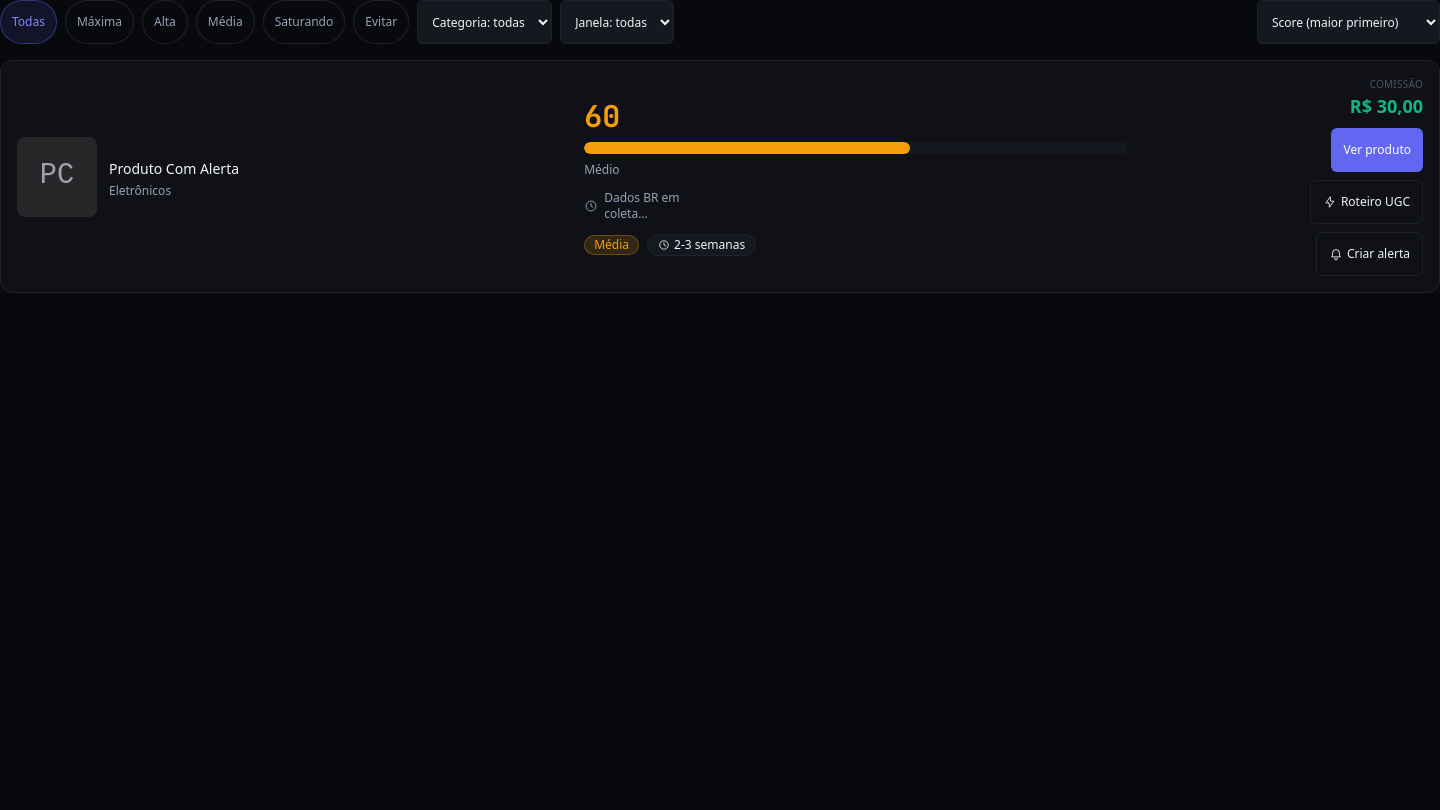
it: <OpportunitiesView /> — PRO › clicar em 'Criar alerta' abre o CreateAlertModal
Step 1. Click the button "Criar alerta" → [1369, 254], box x1=1316 y1=232 x2=1423 y2=276
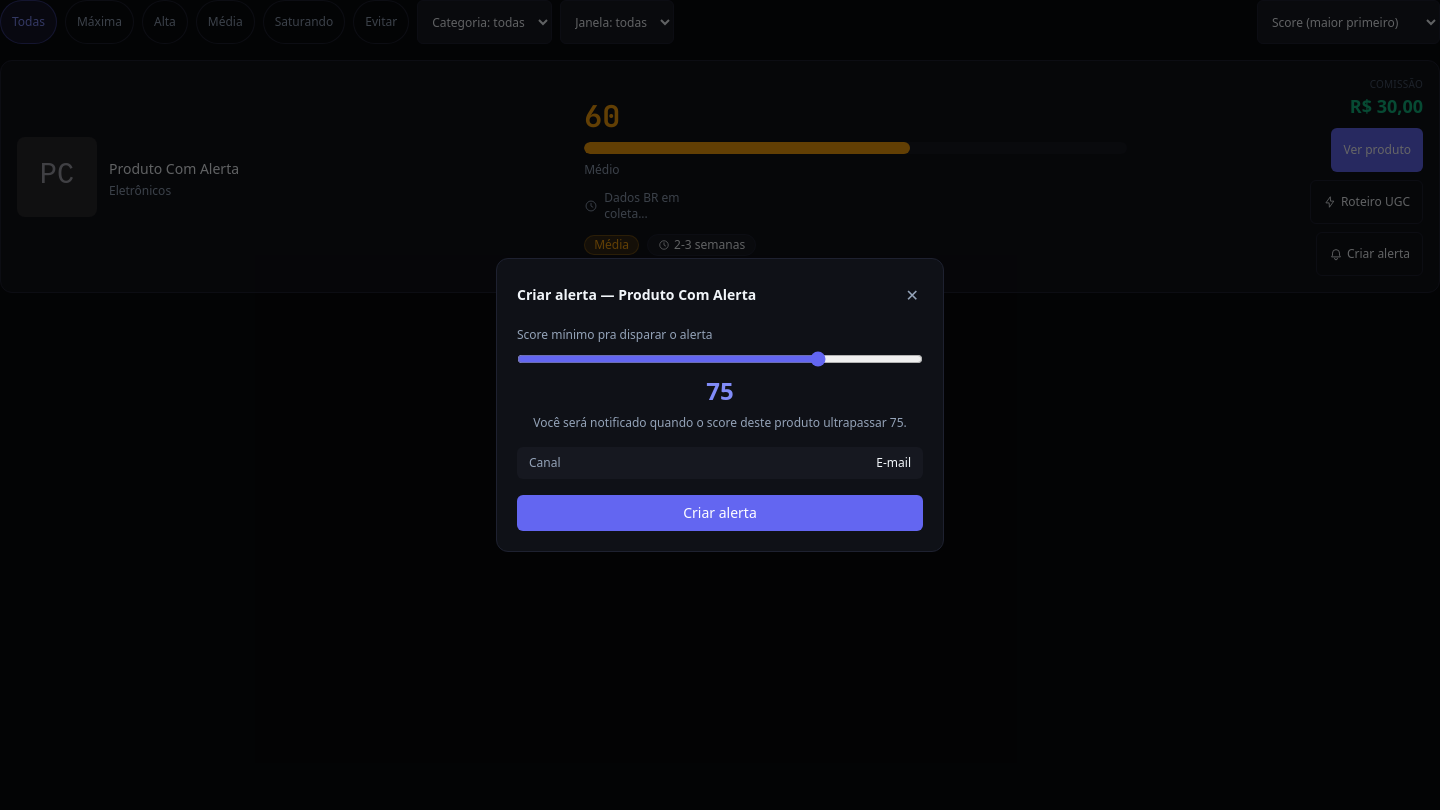
Now the heading "Criar alerta — Produto Com Alerta" is shown, box x1=517 y1=285 x2=756 y2=305
